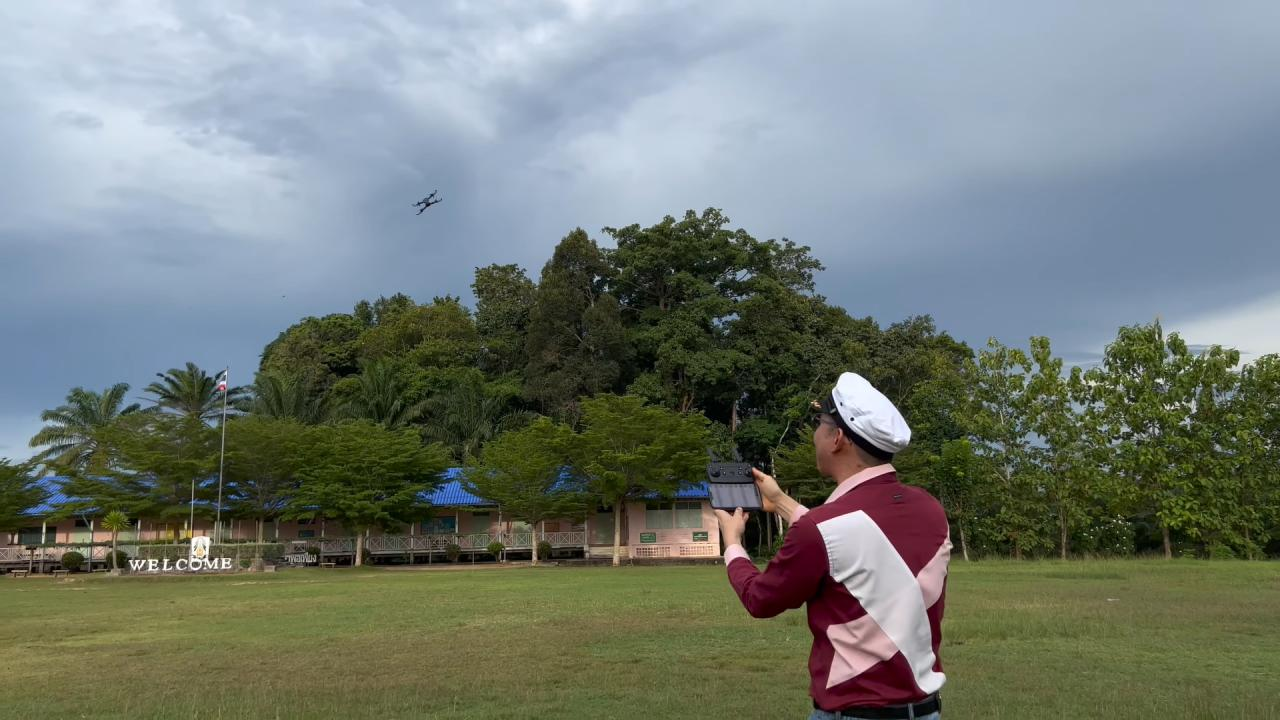Drone: (399, 180, 453, 222)
